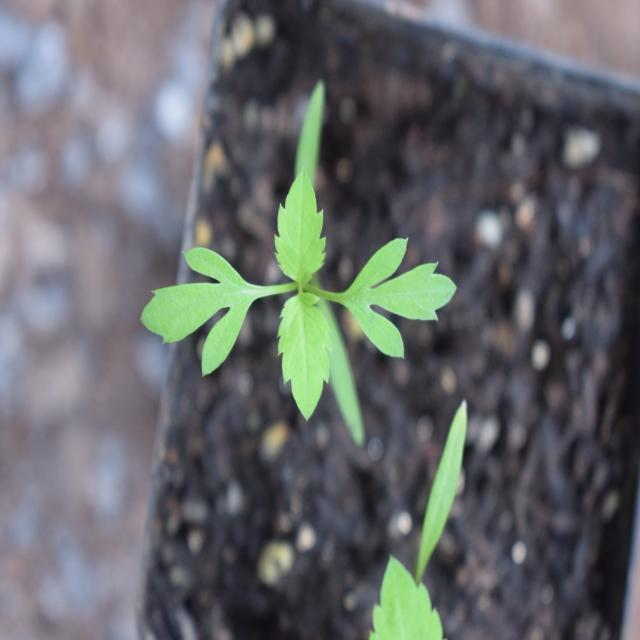Bidens pilosa: (114, 154, 454, 431)
